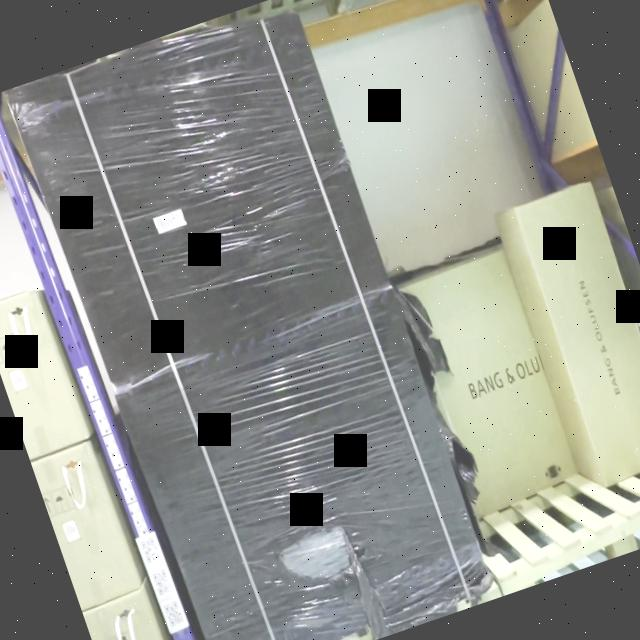box: (8, 15, 388, 381), (120, 282, 489, 640), (516, 184, 640, 488)
